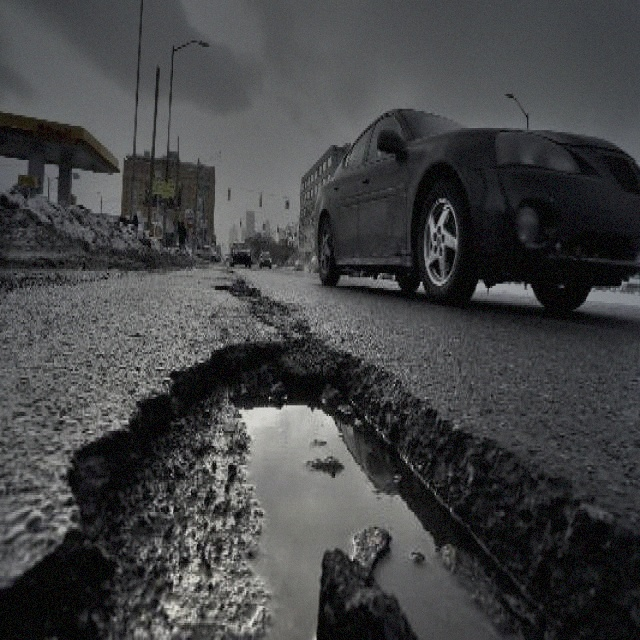pothole: (0, 326, 639, 638)
